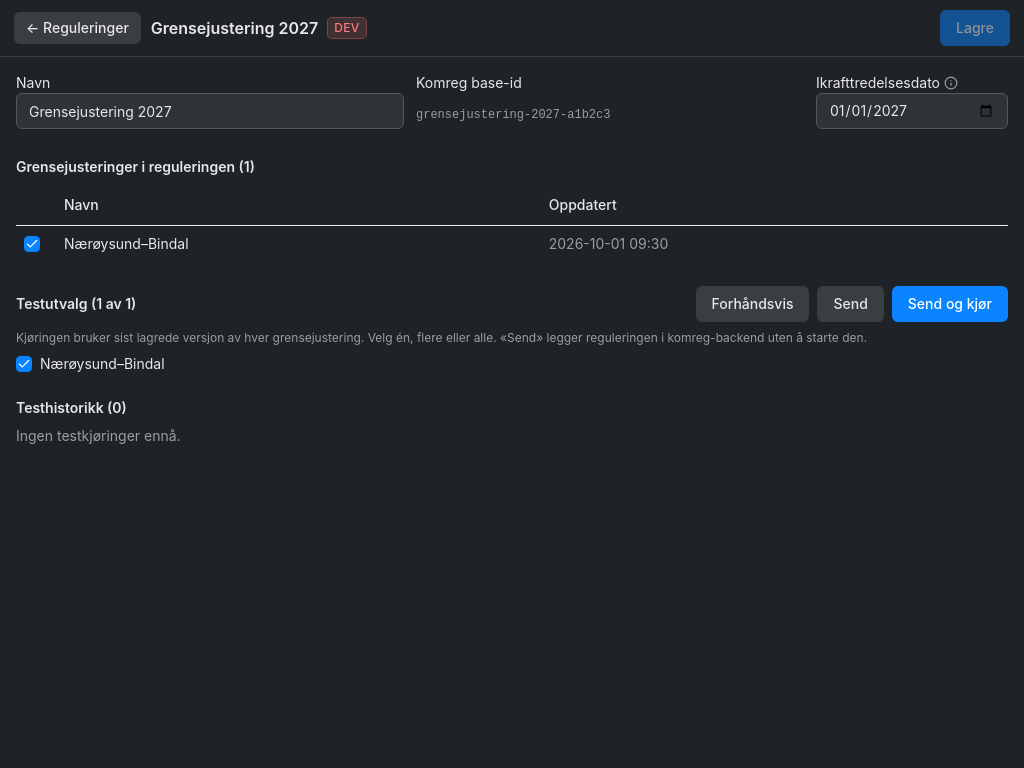
Test: ReguleringView › names the target and host in the confirm, and sends only after it is answered
Expected: the heading "Testutvalg (1 av 1)" is shown, [16,294,136,314]
Expected: the text "dev" is shown, [328,18,366,38]
Click the button "Send og kjør".
click(950, 304)  # box [892,286,1008,322]
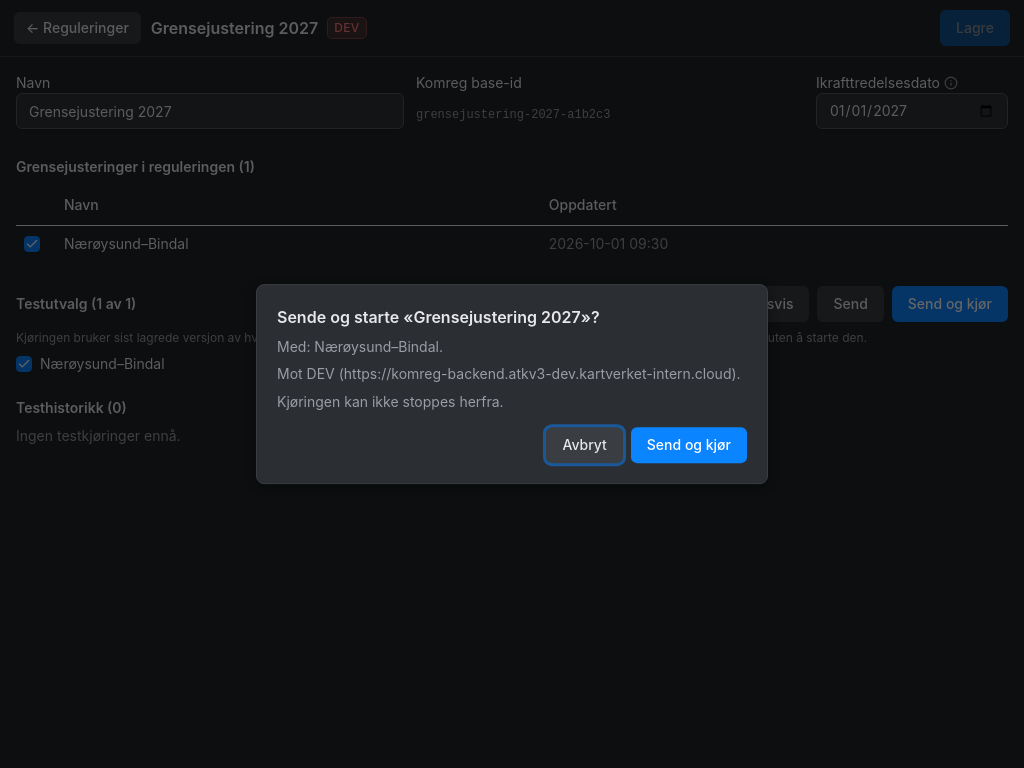
Result: the dialog shows "Sende og starte «Grensejustering 2027»?" at [277,307,600,327]
Result: the dialog shows "Med: Nærøysund–Bindal." at [277,338,443,355]
Result: the dialog shows "Kjøringen kan ikke stoppes herfra." at [277,393,504,410]
Click the button "Send og kjør".
click(689, 445)  # box [631,427,747,463]
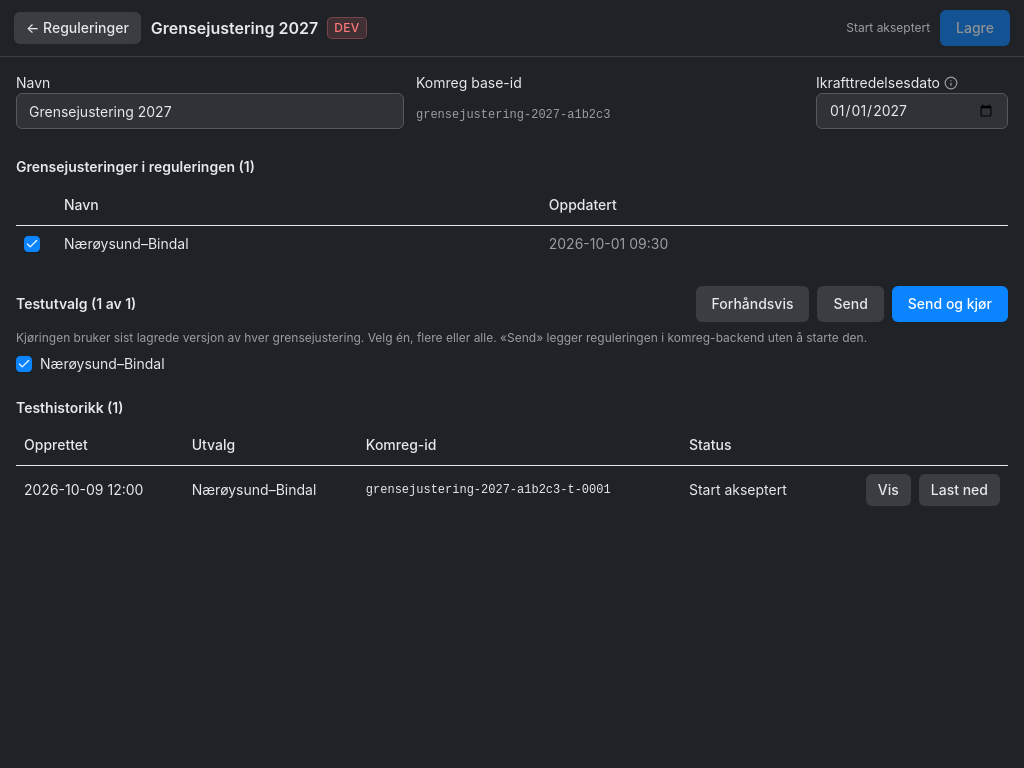
Result: the heading "Testhistorikk (1)" is shown at [16,398,124,416]
